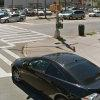Crosswalk: (2, 22, 41, 53)
